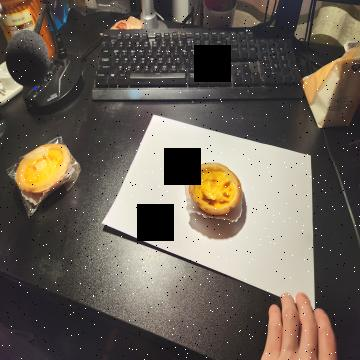EggTart: (187, 161, 243, 216)
